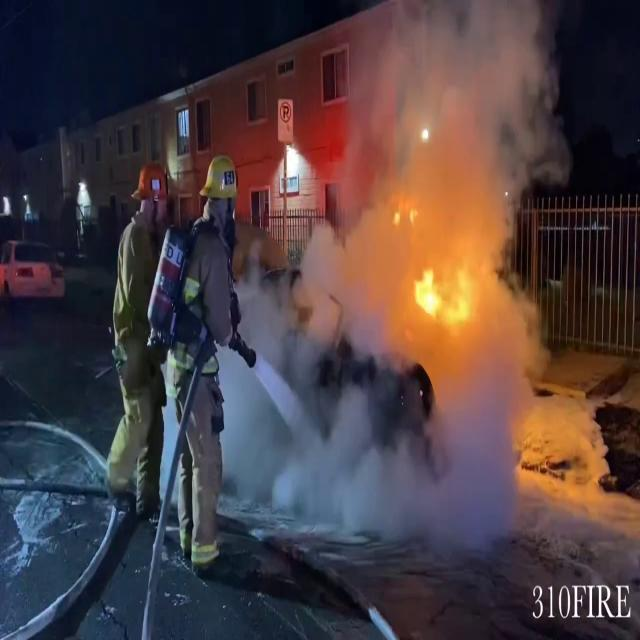Smoke: (276, 1, 570, 550)
